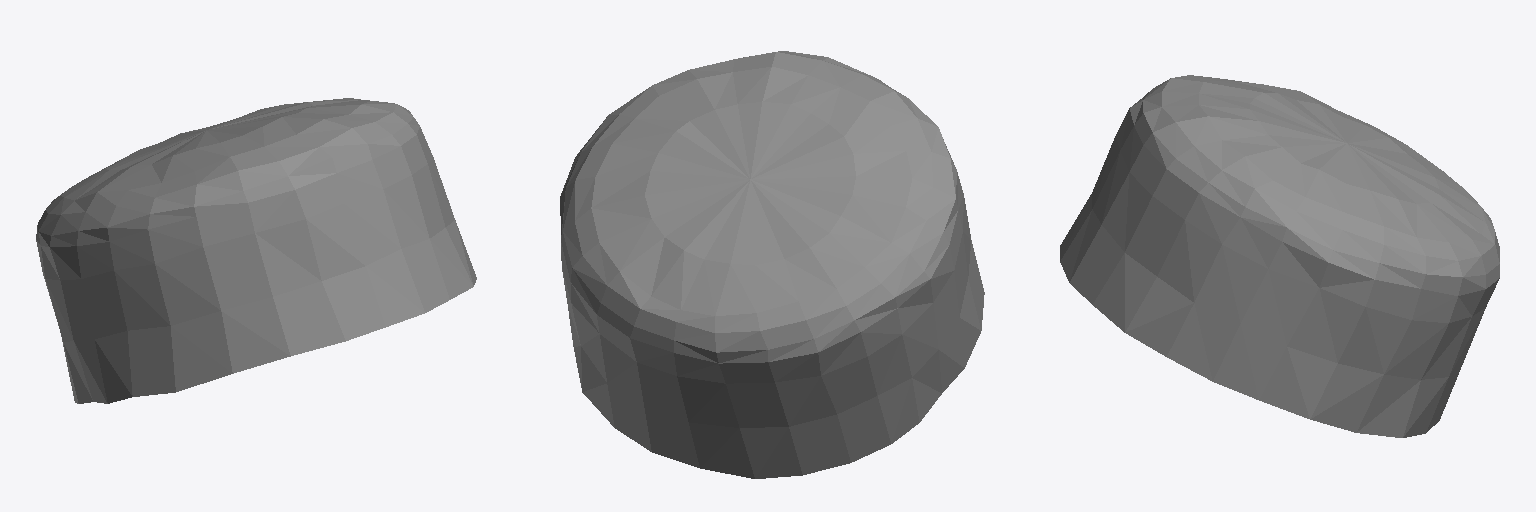
File: right_a_button.obj
3 views of the same model, side by side, from view 1: azimuth 30°, elevation 25°; view 2: azimuth 150°, elevation 25°; view 3: azimuth 270°, elevation 25° (orthographic).
Parts seen in each view (by area): view 1: right_a_button Mesh; view 2: right_a_button Mesh; view 3: right_a_button Mesh.
Boxes of the visible parts, x1,y1,x2,y2 form: right_a_button Mesh: [36, 98, 476, 403]; right_a_button Mesh: [560, 51, 984, 478]; right_a_button Mesh: [1060, 75, 1499, 437].
Bounding box in the file's own units: 0.0092 × 0.0074 × 0.0095.